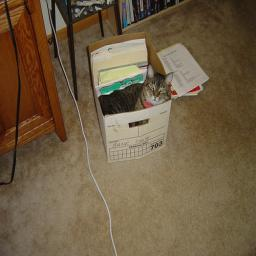catnose: (152, 92, 158, 100)
